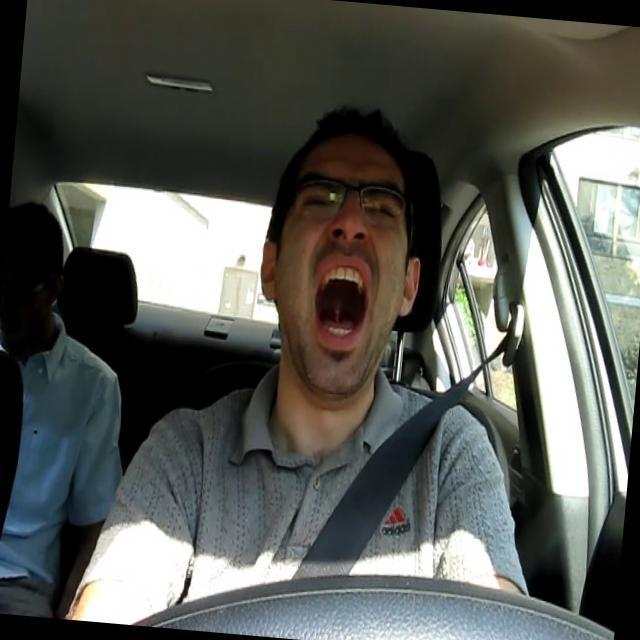open-mouth: (313, 258, 371, 346)
